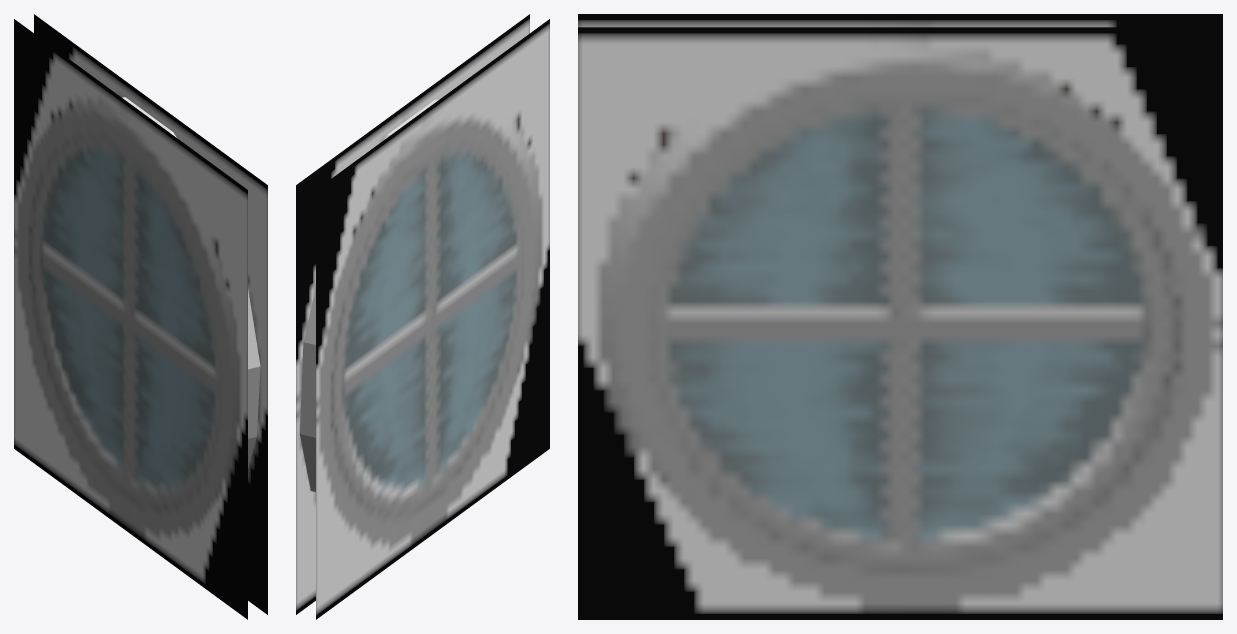
The model's file is pz_native_fixtures_windows_white_30_frame.obj.
The picture shows the model from 3 angles, left to right: view 1: azimuth 30°, elevation 25°; view 2: azimuth 150°, elevation 25°; view 3: azimuth 270°, elevation 25°; orthographic projection. The views are drawn at different scales.
Visible parts, largest first — view 1: pz_native_fixtures_windows_white_30_frame; view 2: pz_native_fixtures_windows_white_30_frame; view 3: pz_native_fixtures_windows_white_30_frame.
Part boxes in pixels (<box>): pz_native_fixtures_windows_white_30_frame: <box>14,14,267,619</box>; pz_native_fixtures_windows_white_30_frame: <box>296,14,549,619</box>; pz_native_fixtures_windows_white_30_frame: <box>578,14,1222,619</box>.
Bounding box in the file's own units: 0.04 × 0.8281 × 0.8165.
Materials: 1 (1 with a texture image).
